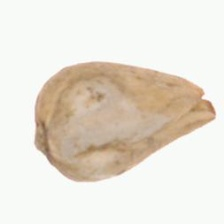L1: (187, 78, 217, 129), (29, 115, 52, 166)
L2: (32, 60, 215, 182)
